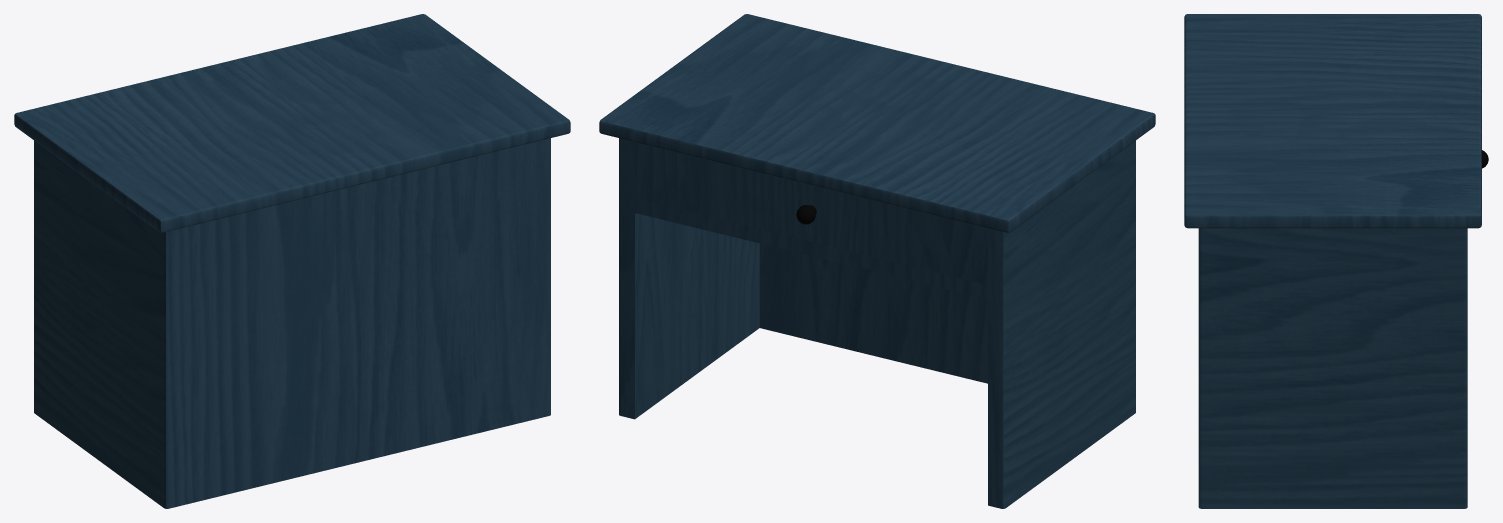
Rendered from Table_v2.glb.
3 renders of one model, left to right at view 1: azimuth 30°, elevation 25°; view 2: azimuth 150°, elevation 25°; view 3: azimuth 270°, elevation 25°, orthographic.
Parts seen in each view (by area): view 1: Table; view 2: Table; view 3: Table.
Boxes of the visible parts, <box> form: Table: <box>14,14,570,508</box>; Table: <box>599,14,1155,508</box>; Table: <box>1184,14,1488,508</box>.
Size of the model in its own units: 255 by 176 by 162.
3 materials, 2 textured.
